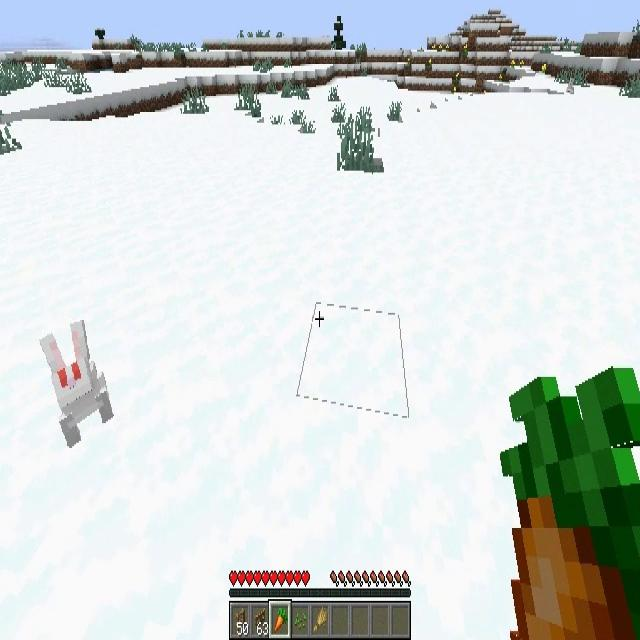rabbit: (39, 319, 114, 449)
